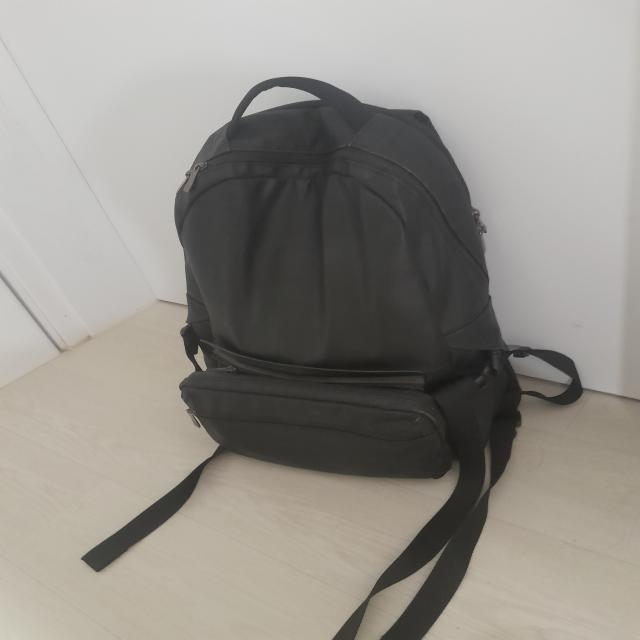backpack: (84, 76, 584, 640)
